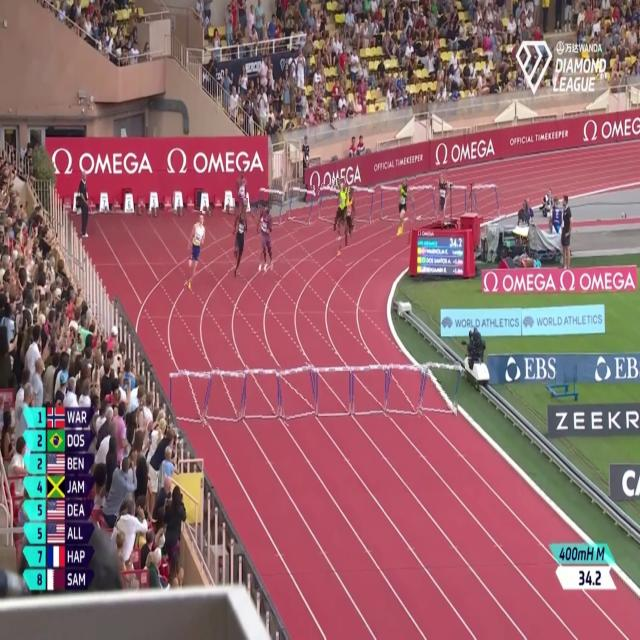athlete: (253, 193, 279, 283), (186, 210, 212, 295), (339, 186, 363, 267), (392, 174, 415, 244), (229, 198, 247, 284), (434, 166, 453, 231), (333, 178, 349, 246)
hurdle: (420, 357, 463, 420), (278, 363, 320, 425), (204, 368, 245, 429), (170, 370, 210, 432), (384, 363, 426, 420), (243, 366, 281, 424), (315, 362, 352, 420), (351, 360, 388, 416), (406, 177, 439, 229), (286, 183, 318, 232), (316, 184, 346, 231), (257, 186, 285, 233), (348, 181, 376, 227), (474, 180, 504, 222), (379, 181, 407, 222), (444, 183, 469, 225)
